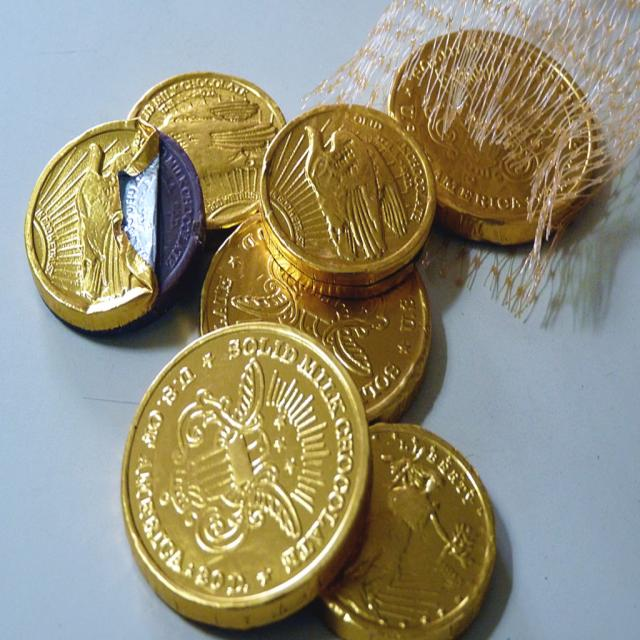Coin: (116, 314, 372, 631), (200, 212, 435, 420), (392, 20, 597, 243), (319, 424, 501, 639), (24, 127, 202, 334), (263, 99, 438, 304), (127, 67, 287, 241)
